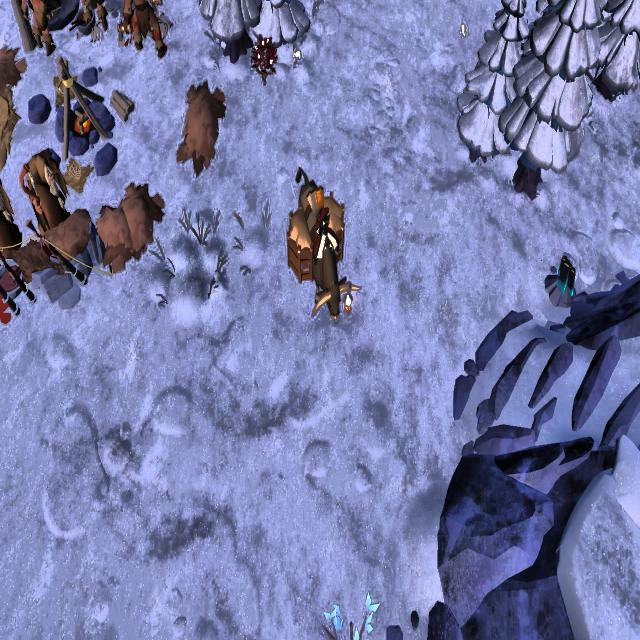enemy_factionKeeper: (18, 145, 70, 239), (125, 0, 167, 63)
fiber_t5: (249, 33, 278, 83)
ore_t4: (556, 252, 574, 298)
